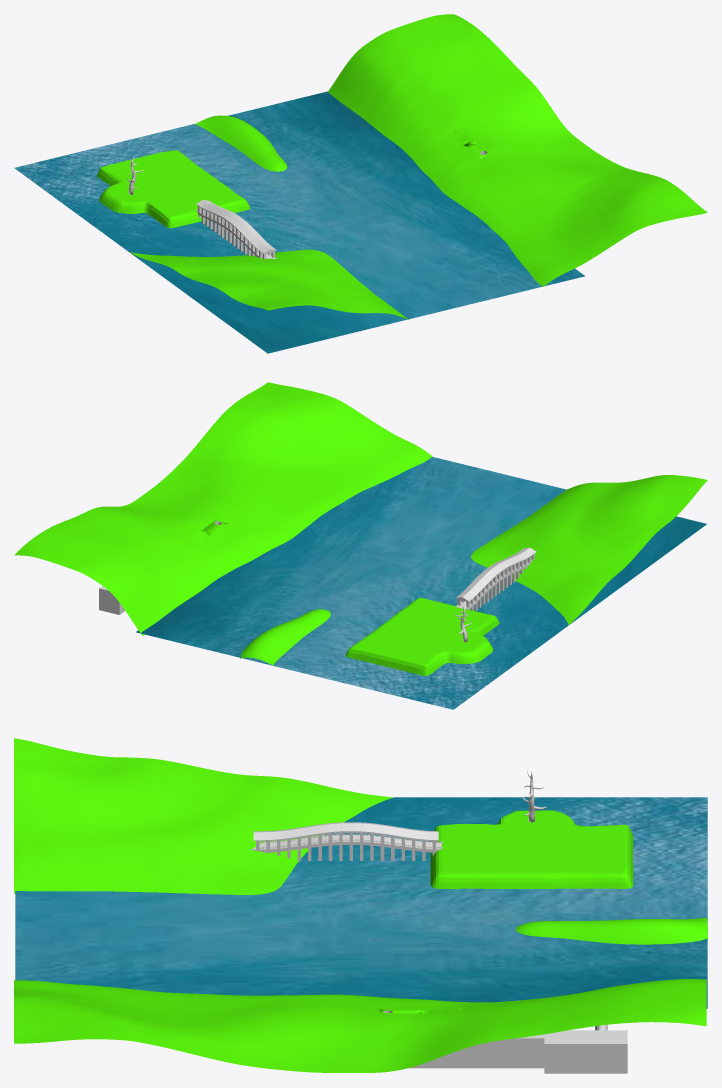
The model's file is Terrain.fbx.
The picture shows the model from 3 angles, top to bottom: view 1: azimuth 30°, elevation 25°; view 2: azimuth 150°, elevation 25°; view 3: azimuth 270°, elevation 25°; orthographic projection. The views are drawn at different scales.
Parts seen in each view (by area): view 1: Ground, water, Bridge; view 2: Ground, water, Bridge; view 3: Ground, water, Bridge.
Part boxes in pixels (x1=…): Ground: x1=97, y1=14, x2=707, y2=319; water: x1=14, y1=91, x2=584, y2=353; Bridge: x1=196, y1=200, x2=276, y2=259; Ground: x1=14, y1=382, x2=707, y2=675; water: x1=136, y1=457, x2=706, y2=709; Bridge: x1=455, y1=547, x2=536, y2=610; Ground: x1=14, y1=738, x2=707, y2=1073; water: x1=15, y1=797, x2=707, y2=1008; Bridge: x1=251, y1=822, x2=443, y2=860.
Bounding box in the file's own units: 40000 × 5676 × 40082.
